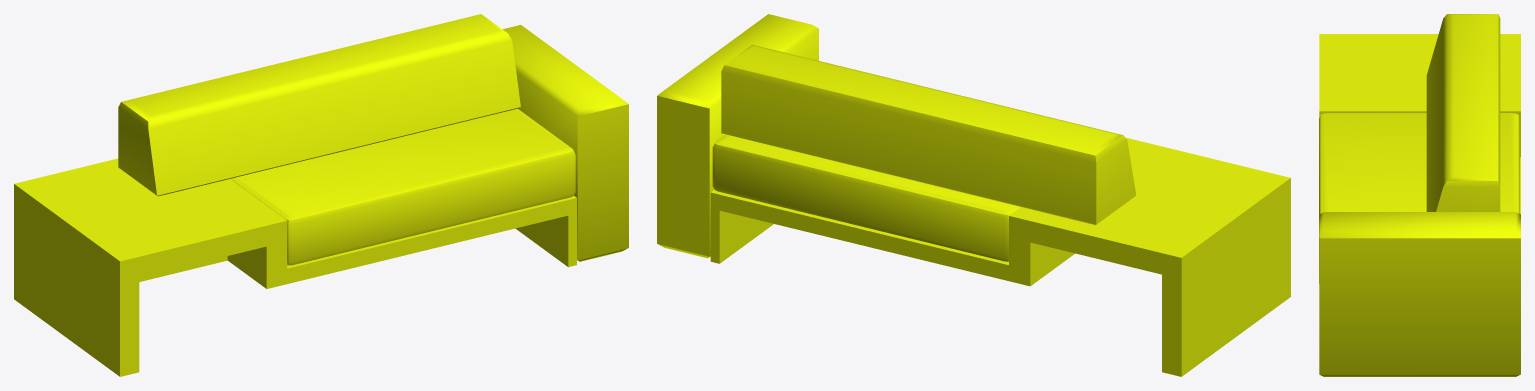
The model's file is Sofa2.FBX.
3 views of the same model, side by side, from view 1: azimuth 30°, elevation 25°; view 2: azimuth 150°, elevation 25°; view 3: azimuth 270°, elevation 25° (orthographic). The views are drawn at different scales.
Visible parts, largest first — view 1: Box023; view 2: Box023; view 3: Box023.
Part boxes in pixels (box(x1,y1,x2,y2)): Box023: box(14, 14, 628, 376); Box023: box(657, 14, 1290, 376); Box023: box(1319, 14, 1520, 376).
Bounding box in the file's own units: 3.37 × 1.17 × 1.22.
